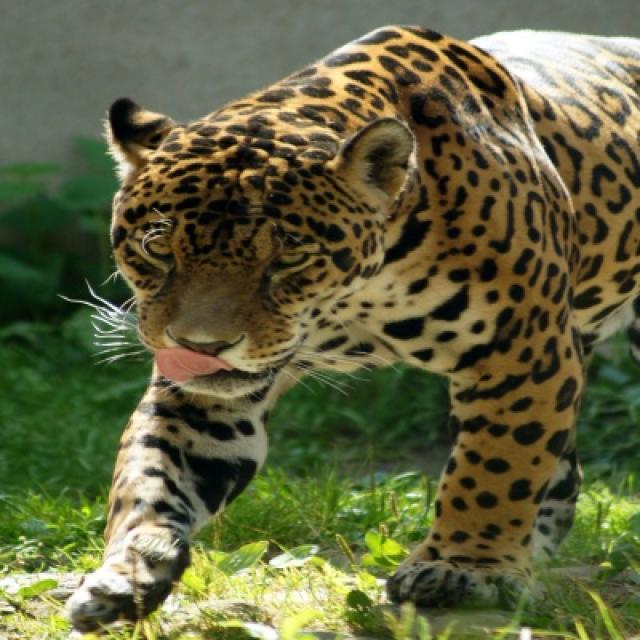Jaguar: (66, 24, 638, 637)
